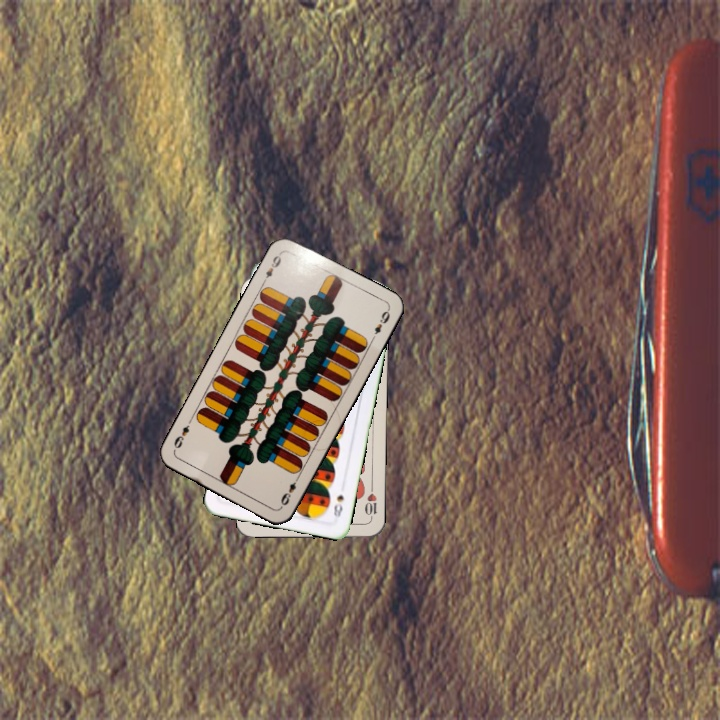E9: (259, 248, 285, 286), (277, 472, 302, 509)
H10: (361, 482, 379, 523)
S8: (329, 491, 346, 523)
